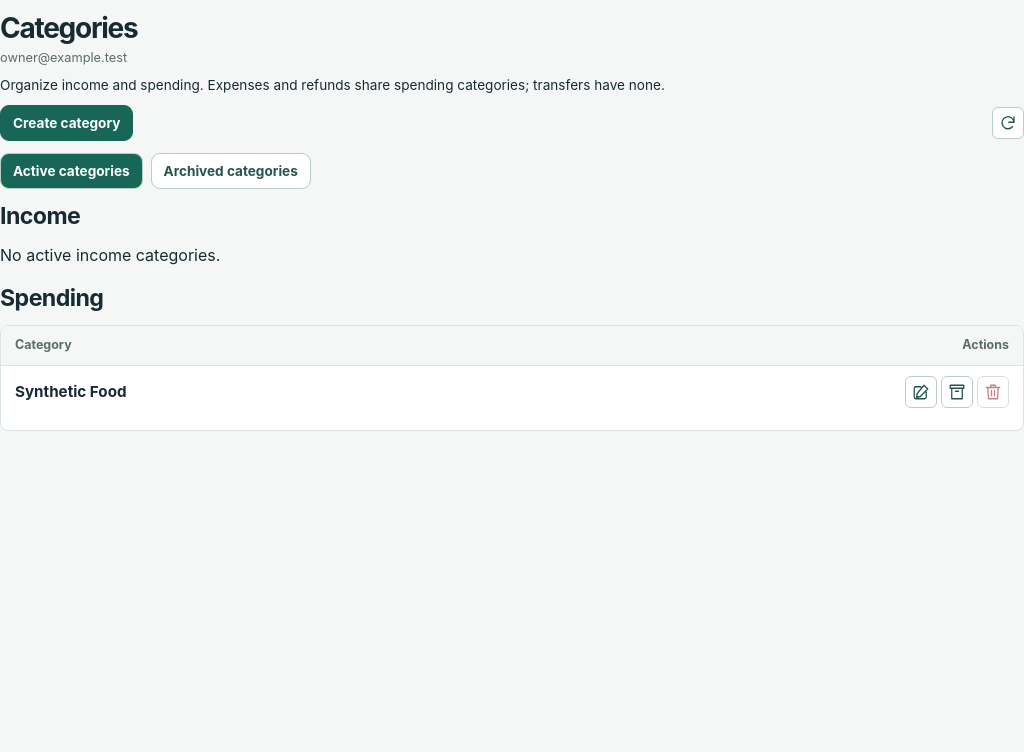
Test case: retains failed category input while other actions stay disabled
Expected: the heading "Synthetic Food" is shown, [15,382,126,401]
Click the button named "Edit category": click(921, 392) [905,376,937,408]
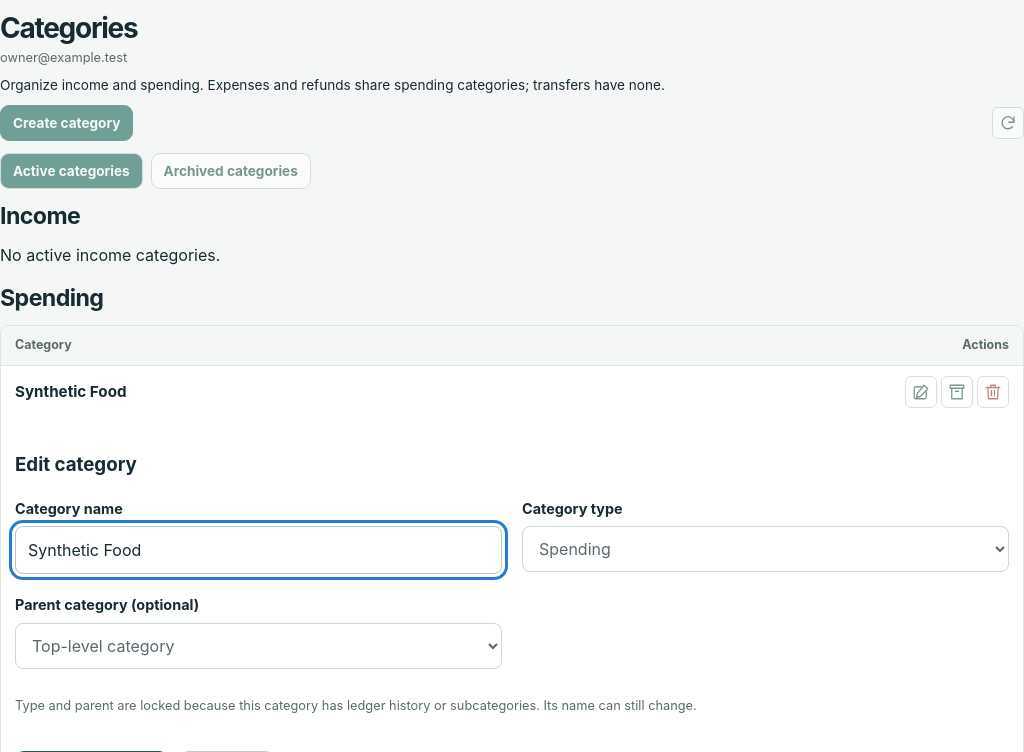
Replace the text in the field labelled "Category name" with "Synthetic Shopping": (258, 550) [15,526,502,574]
(page scrolled)
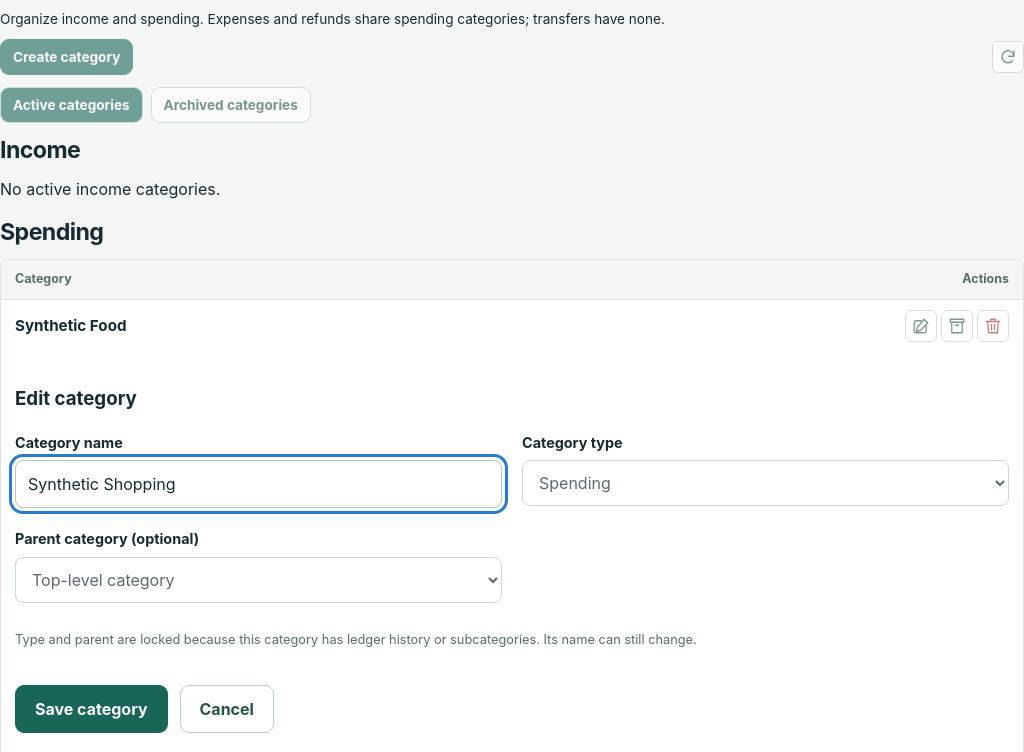
Click the button "Save category": click(91, 709) [15,685,168,733]
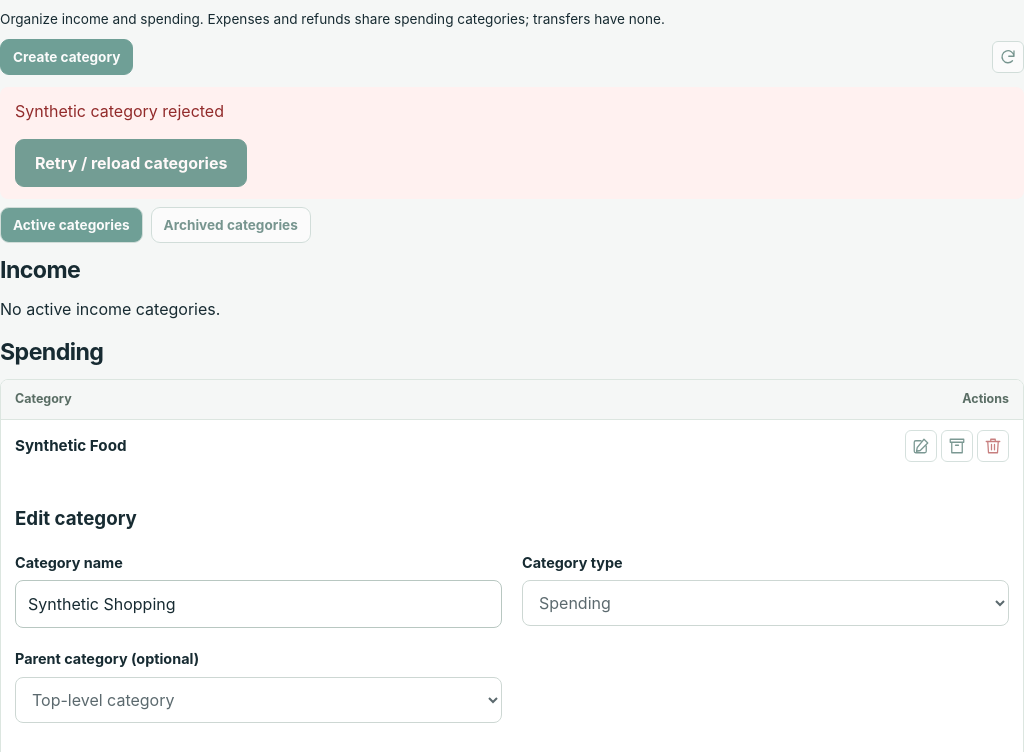
Expected: the button "Archived categories" is disabled, [151,207,311,243]
Expected: the text "Synthetic category rejected" is shown, [15,101,224,121]
